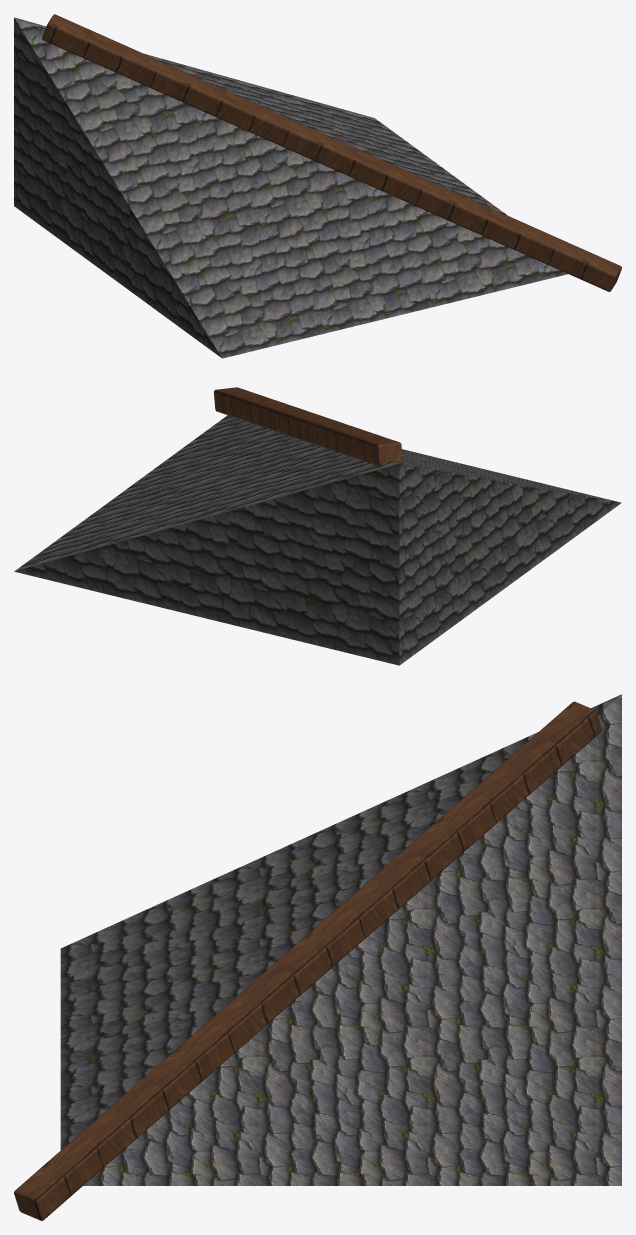
The model's file is roof_26_outer__cut_stone.glb.
The picture shows the model from 3 angles, top to bottom: view 1: azimuth 30°, elevation 25°; view 2: azimuth 150°, elevation 25°; view 3: azimuth 270°, elevation 25°; orthographic projection. The views are drawn at different scales.
Visible parts, largest first — view 1: model; view 2: model; view 3: model.
Part boxes in pixels (box(x1,y1,x2,y2)): model: box(14, 14, 621, 358); model: box(14, 387, 621, 665); model: box(14, 694, 621, 1220).
Bounding box in the file's own units: 2.17 × 1.09 × 2.17.
Materials: 2 (2 with a texture image).
